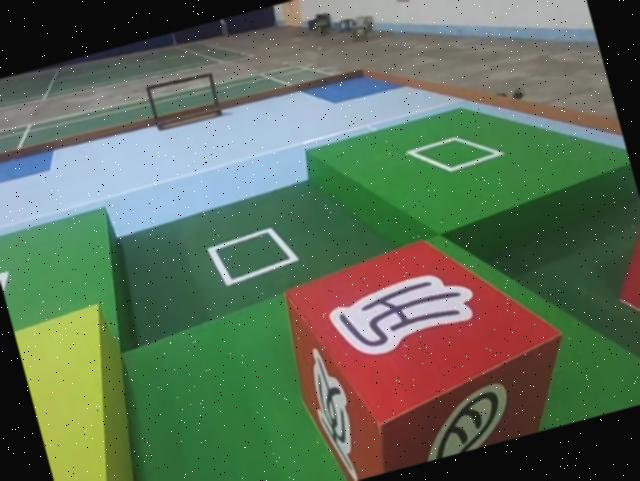R2 Fake: (265, 209, 584, 481)
